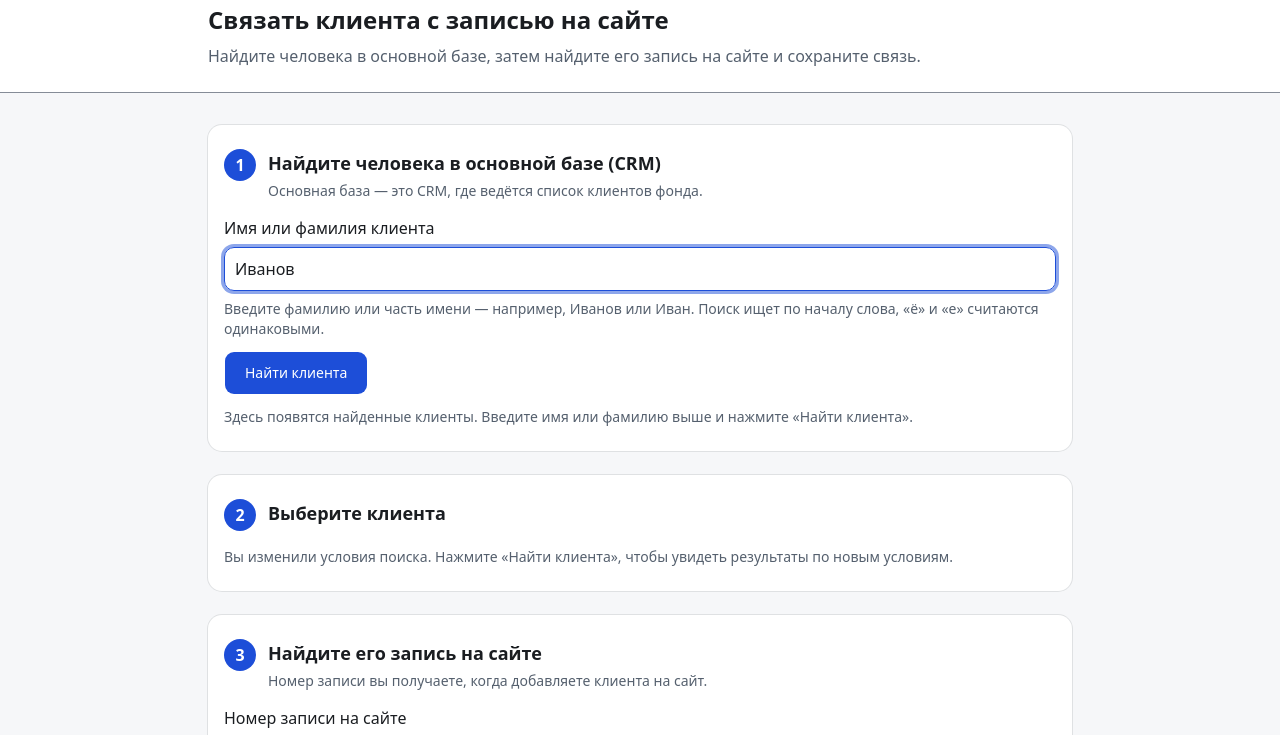
Test: актуальность поиска записи на сайте › изменение номера позволяет начать новый поиск, а поздний ответ прежнего игнорируется
Earlier steps of the test are not shown.
Click the button "Найти клиента". click: point(296, 373)
box: [224, 351, 368, 395]
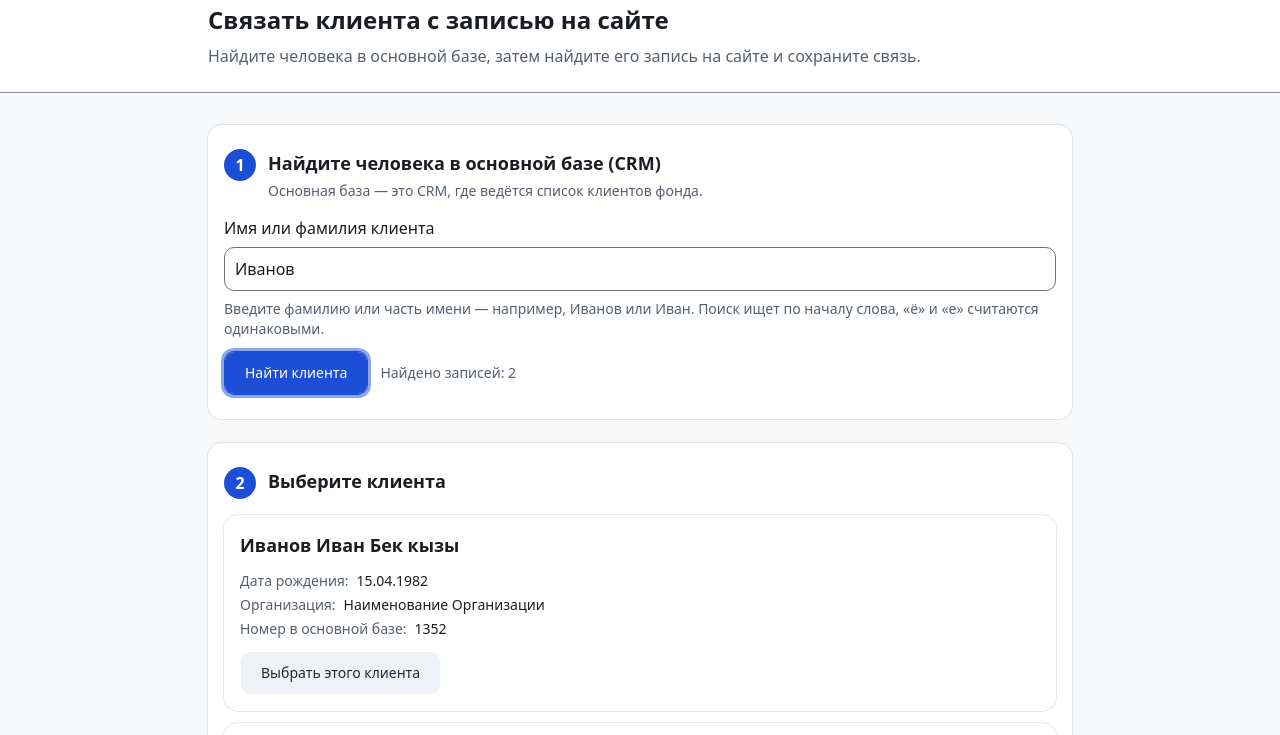
Click the button "Выбрать этого клиента". click: point(341, 673)
box: [240, 651, 441, 695]
(page scrolled)
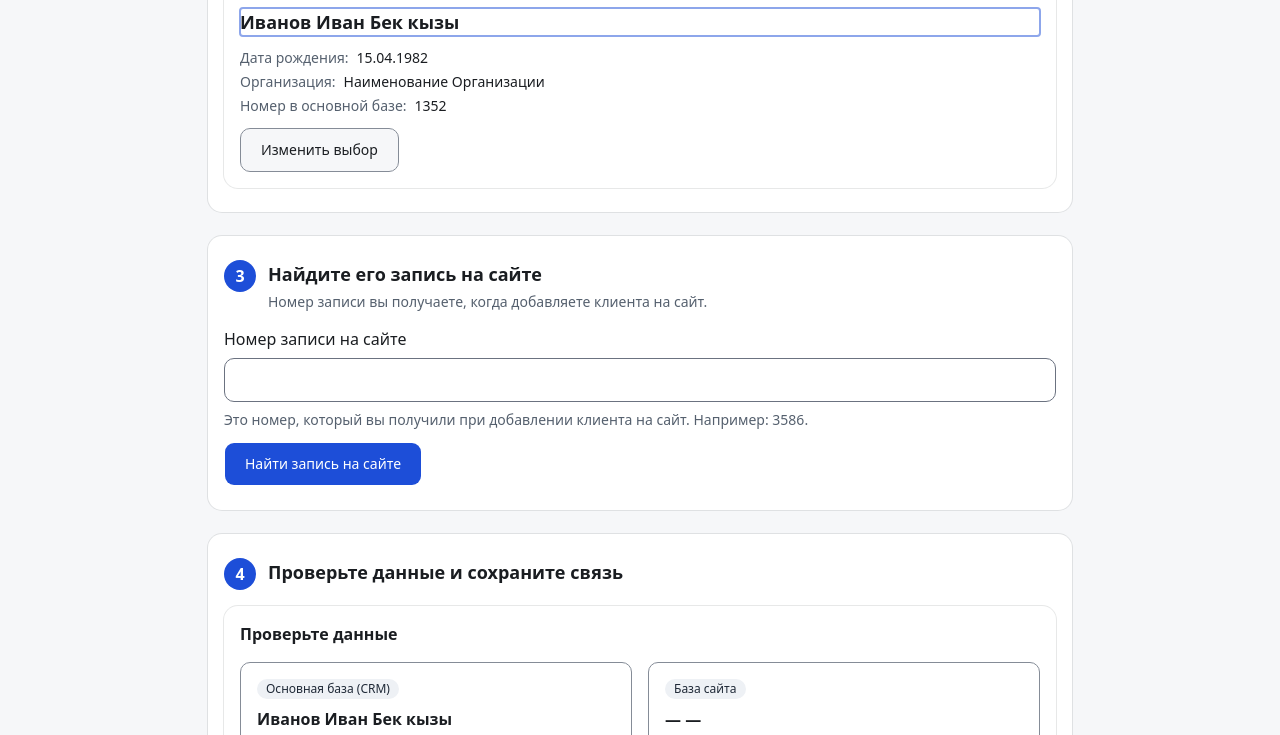
Type "3586" into the field labelled "Номер записи на сайте". click: point(640, 380)
box: [224, 358, 1056, 402]
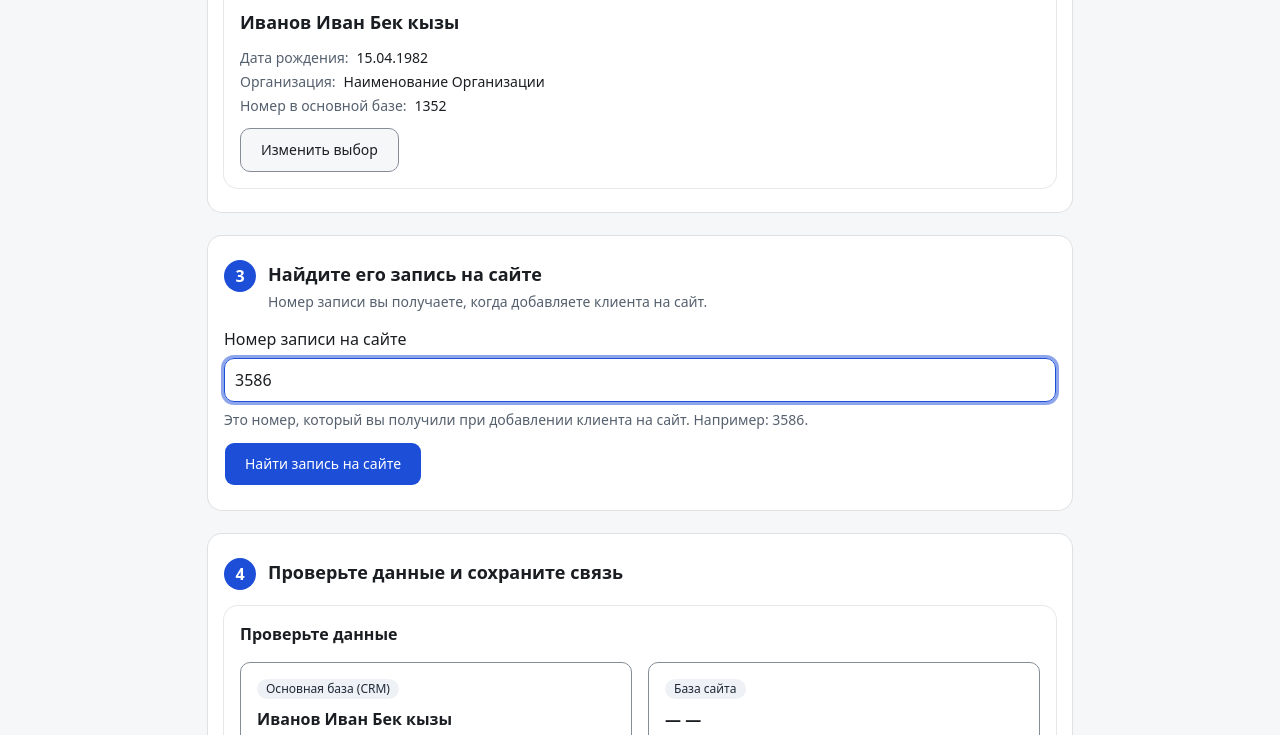
Click the button "Найти запись на сайте". click: point(323, 464)
box: [224, 442, 422, 486]
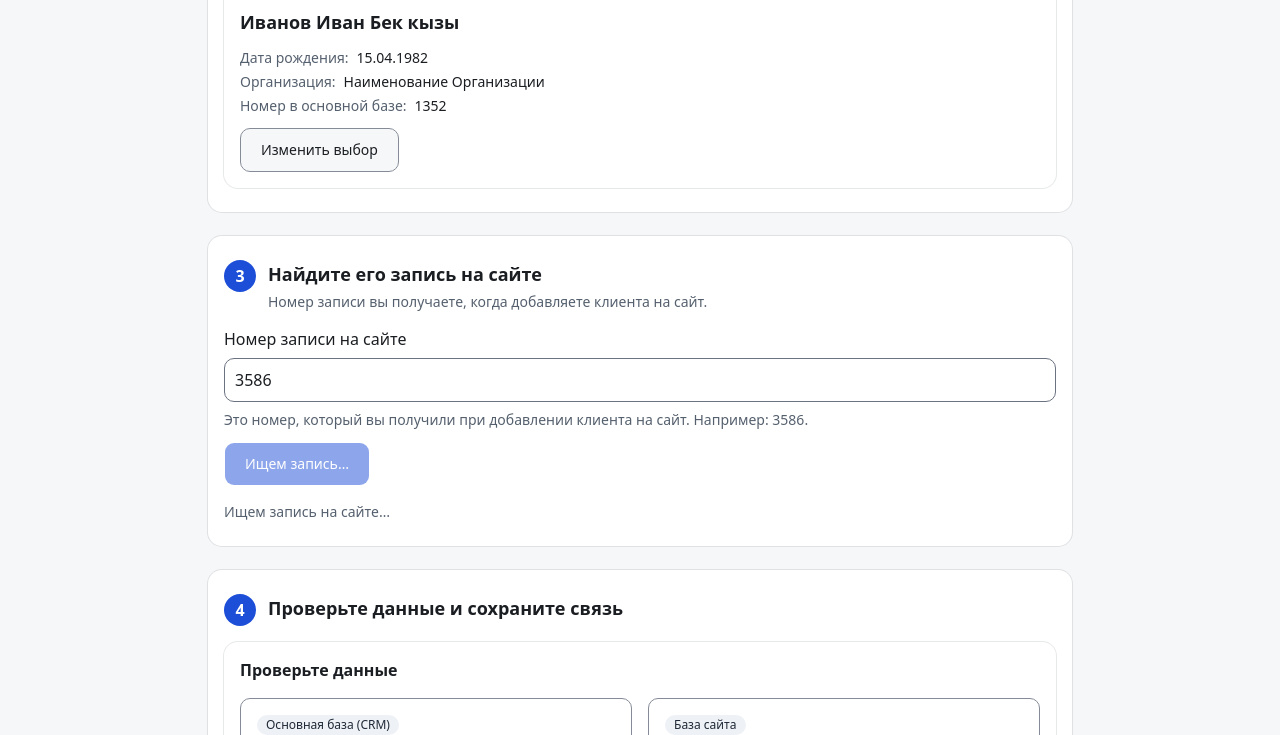
Replace the text in the field labelled "Номер записи на сайте" with "3587". click: point(640, 380)
box: [224, 358, 1056, 402]
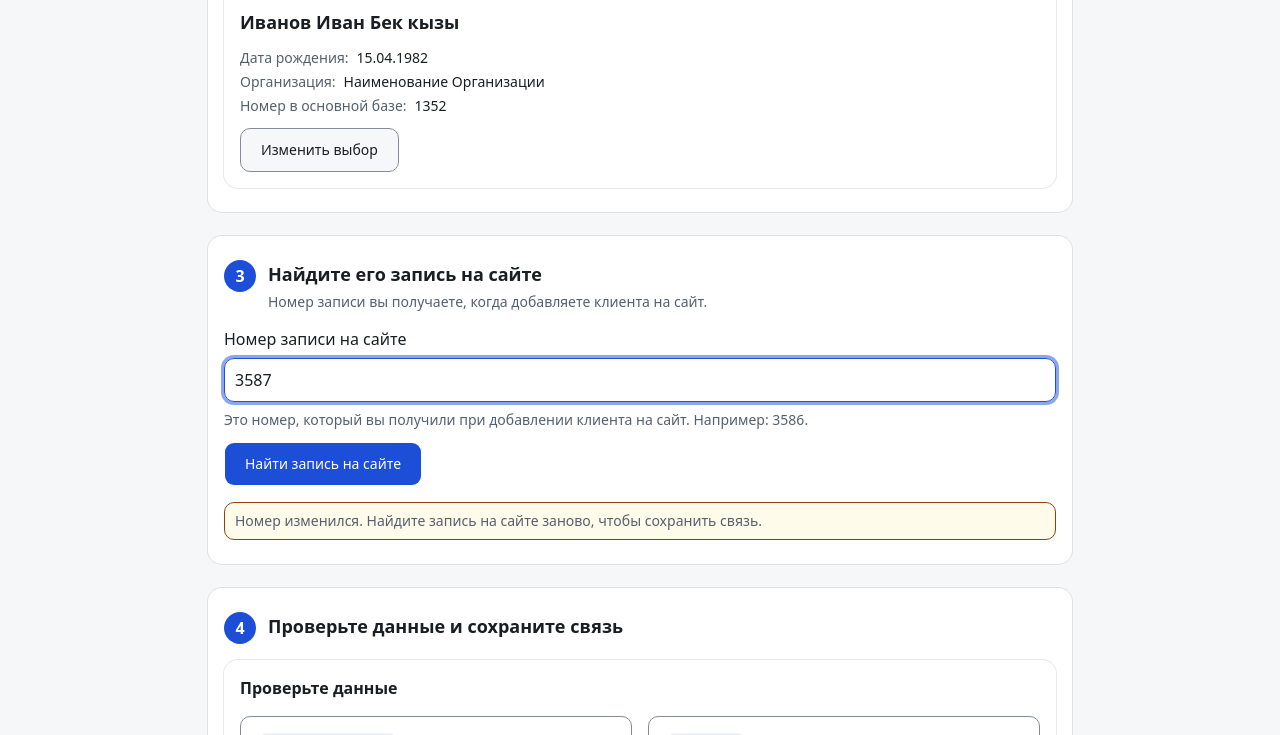
Expected: the button "Найти запись на сайте" is enabled
Click the button "Найти запись на сайте". click: point(323, 464)
box: [224, 442, 422, 486]
(page scrolled)
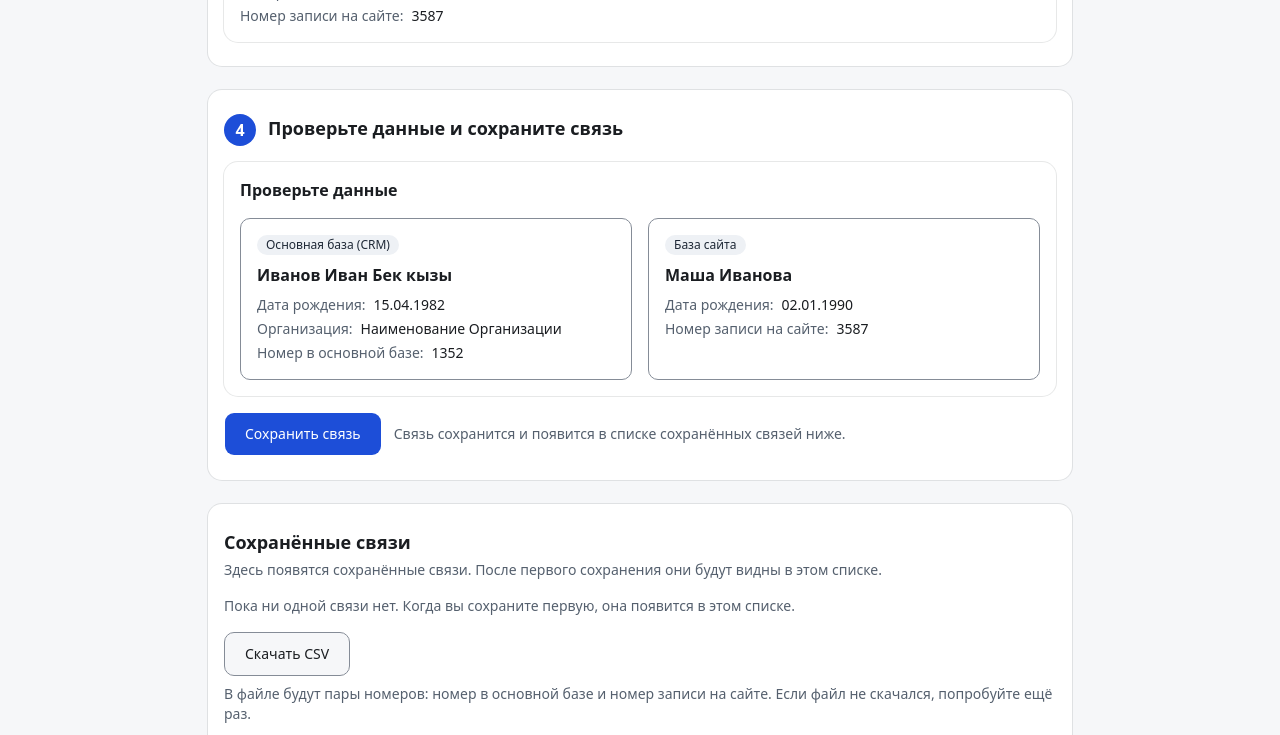
Expected: the button "Сохранить связь" is enabled, [224, 412, 382, 456]
